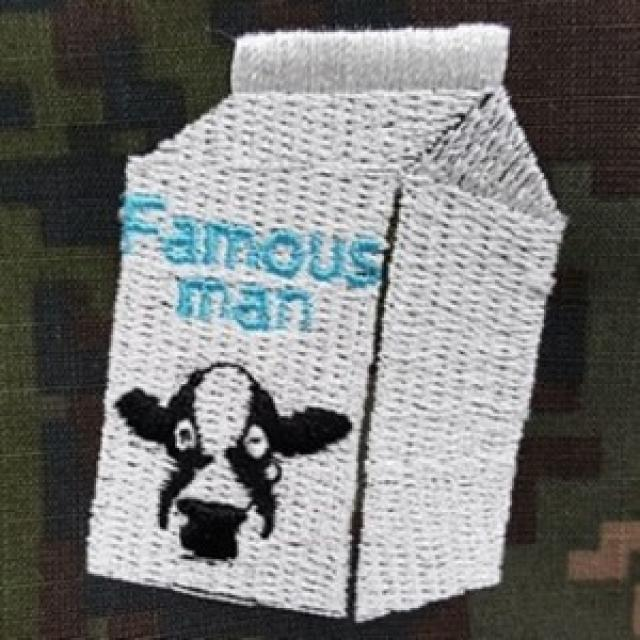Carton: (74, 15, 568, 640)
